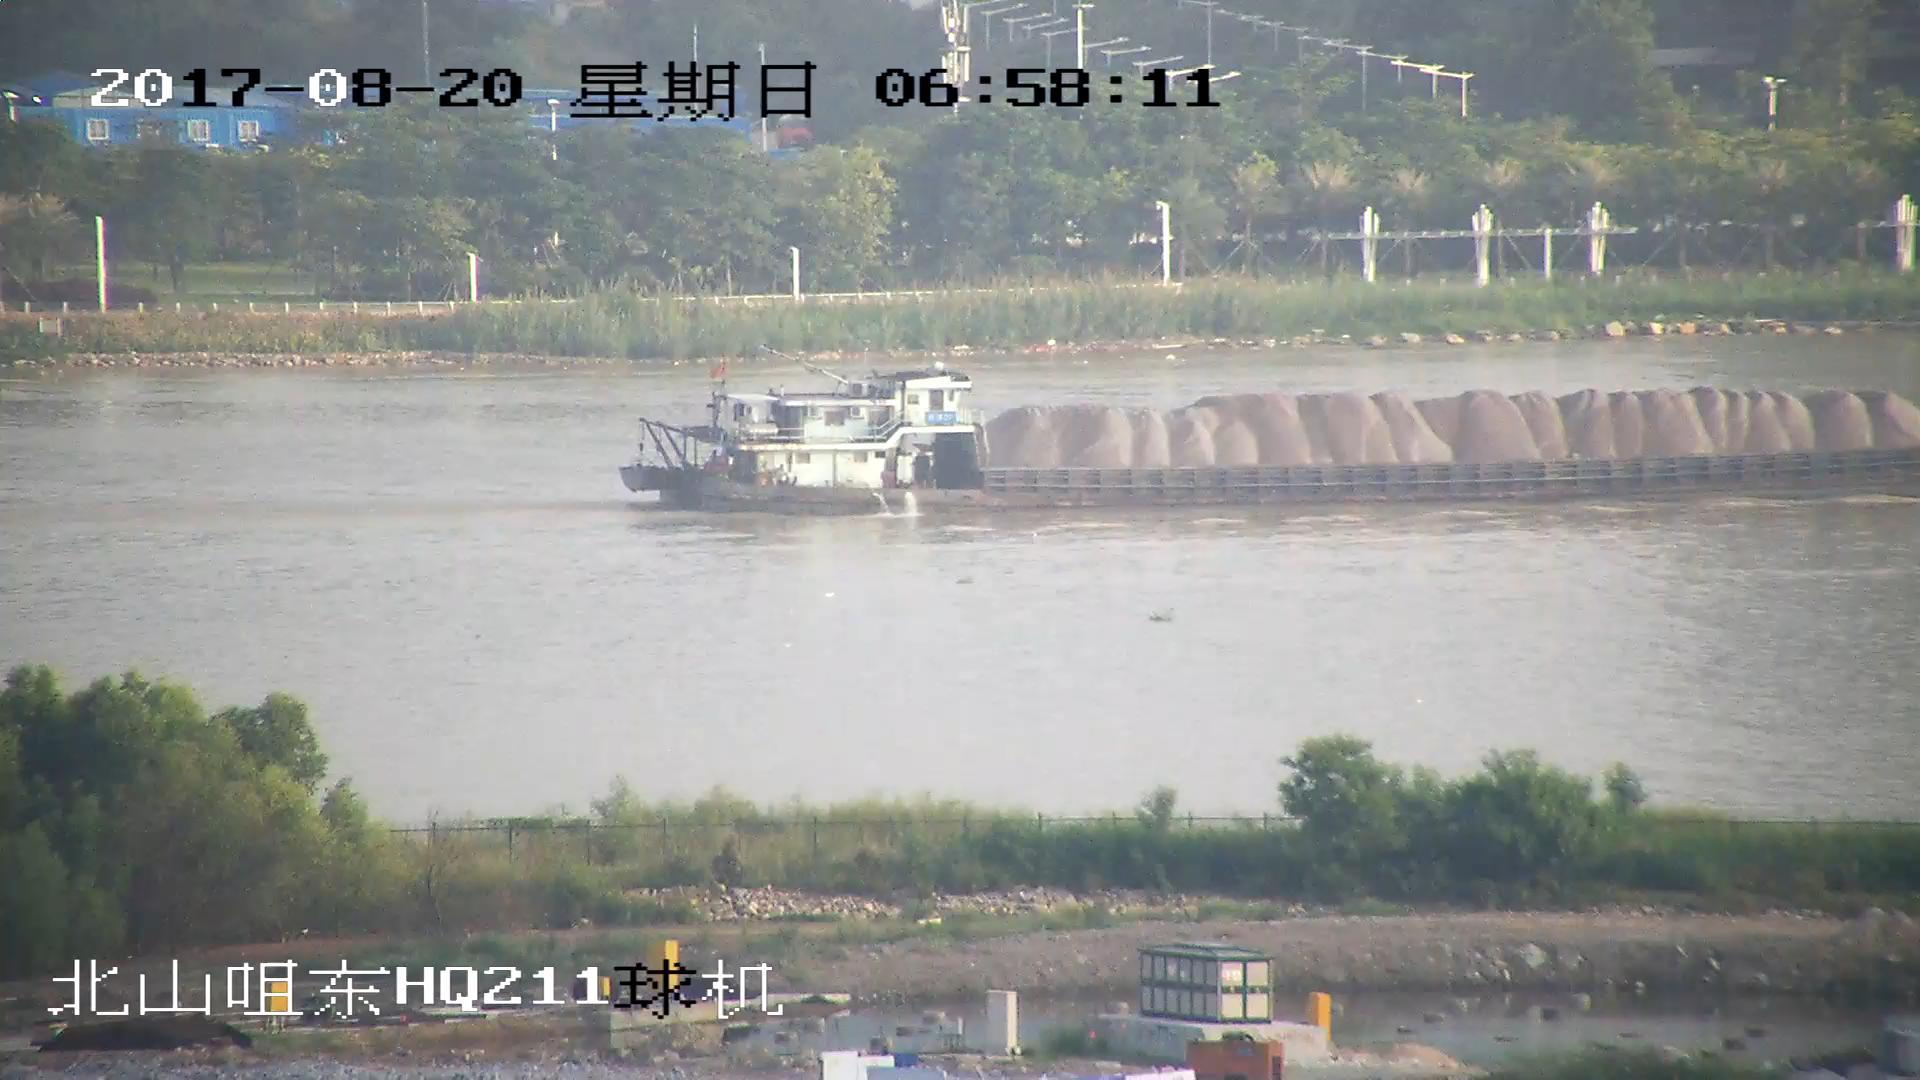Ship: (622, 345, 1920, 524)
